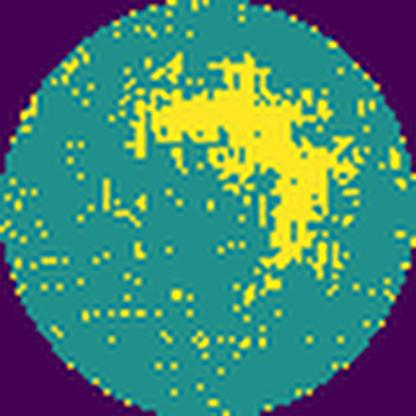Donut: (110, 47, 373, 314)
